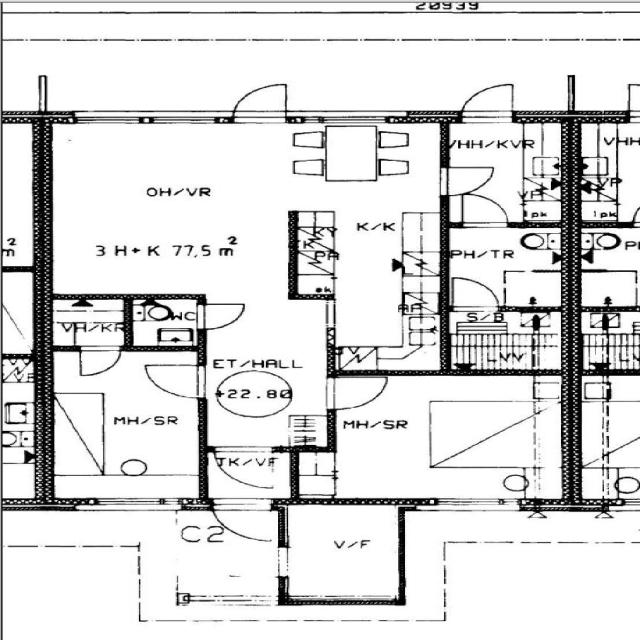door: (441, 161, 505, 226), (208, 497, 278, 545), (211, 446, 278, 492), (227, 80, 292, 122), (454, 80, 519, 122), (324, 373, 392, 413), (141, 362, 208, 400), (438, 164, 496, 197), (448, 275, 502, 309), (456, 193, 510, 226), (196, 301, 249, 332), (74, 346, 122, 378)
window: (85, 495, 174, 513), (428, 496, 518, 512), (314, 112, 392, 127), (72, 110, 145, 126), (145, 112, 221, 126), (271, 544, 293, 580)
zone: (38, 124, 308, 294), (62, 354, 204, 504), (281, 504, 401, 603), (446, 120, 561, 219), (444, 224, 567, 312), (418, 395, 538, 471), (445, 309, 558, 371), (590, 380, 640, 502), (442, 122, 552, 166), (47, 297, 130, 349), (128, 296, 204, 349), (581, 121, 638, 183)
